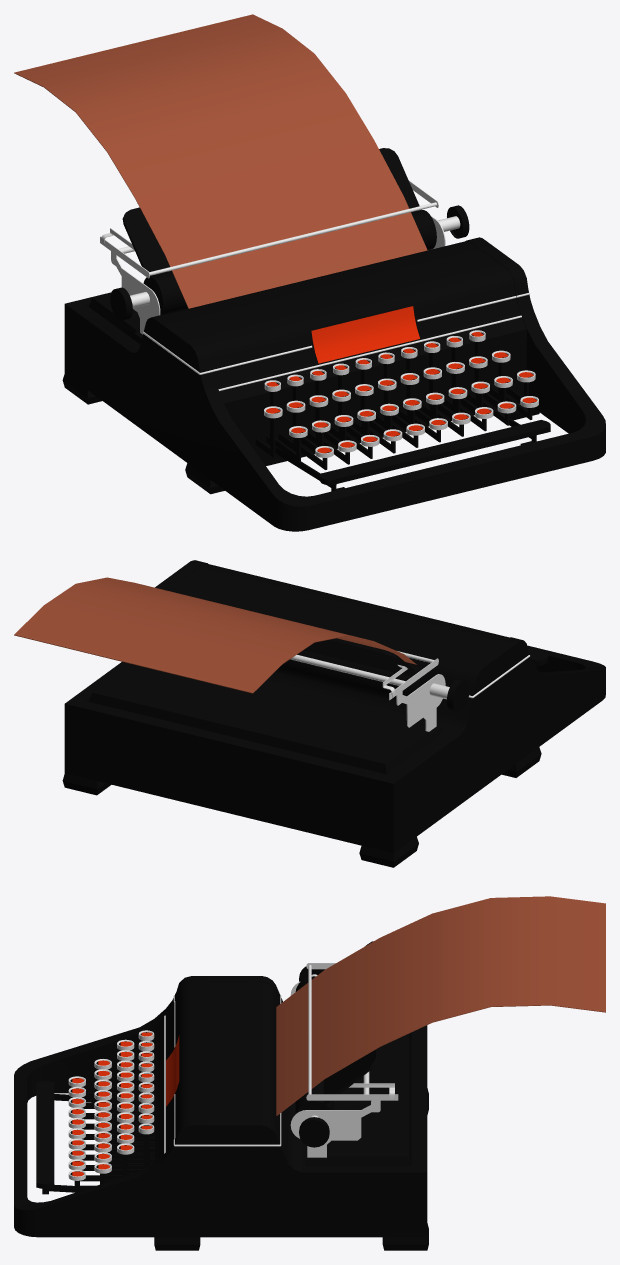
File: typewriter.fbx
3 renders of one model, top to bottom at view 1: azimuth 30°, elevation 25°; view 2: azimuth 150°, elevation 25°; view 3: azimuth 270°, elevation 25°, orthographic. The views are drawn at different scales.
Parts seen in each view (by area): view 1: typewriter; view 2: typewriter; view 3: typewriter.
Boxes of the visible parts, x1=… form: typewriter: x1=14, y1=14, x2=605, y2=531; typewriter: x1=14, y1=560, x2=605, y2=867; typewriter: x1=14, y1=896, x2=605, y2=1250.
Size of the model in its own units: 0.452 by 0.3043 by 0.7252.
